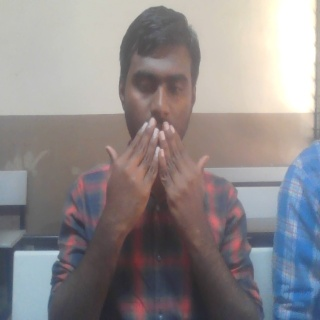Thank You: (95, 116, 219, 246)
